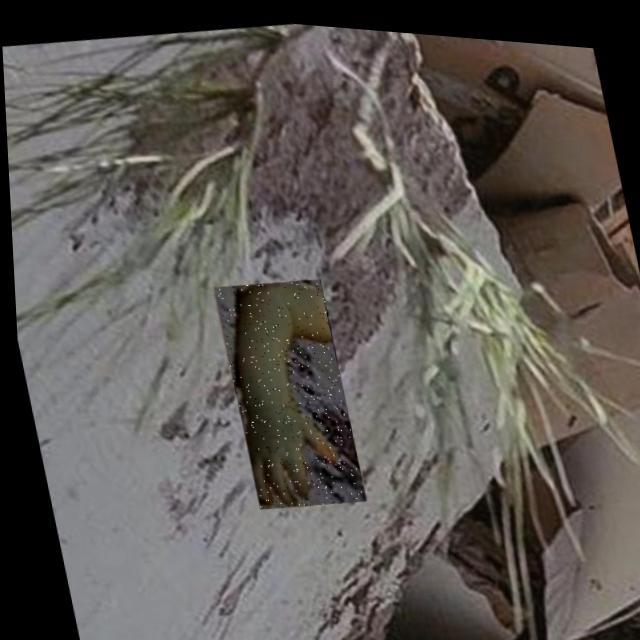Person in Rubble: (209, 267, 361, 512)
